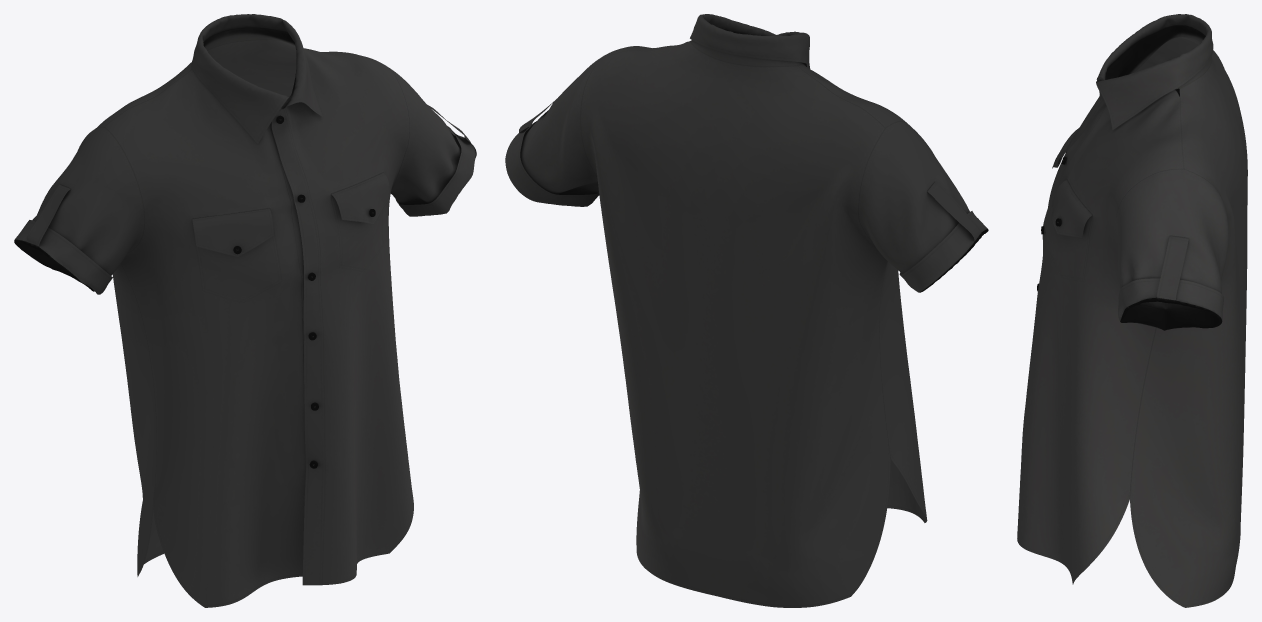
Rendered from jacket5.glb.
3 renders of one model, left to right at view 1: azimuth 30°, elevation 25°; view 2: azimuth 150°, elevation 25°; view 3: azimuth 270°, elevation 25°, orthographic. The views are drawn at different scales.
Visible parts, largest first — view 1: shirt_0; view 2: shirt_0; view 3: shirt_0.
Part boxes in pixels (box(x1,y1,x2,y2)): shirt_0: box(14, 14, 476, 607); shirt_0: box(505, 14, 988, 607); shirt_0: box(1017, 14, 1247, 607).
Size of the model in its own units: 0.6348 by 0.7337 by 0.2884.
2 materials, 2 textured.
